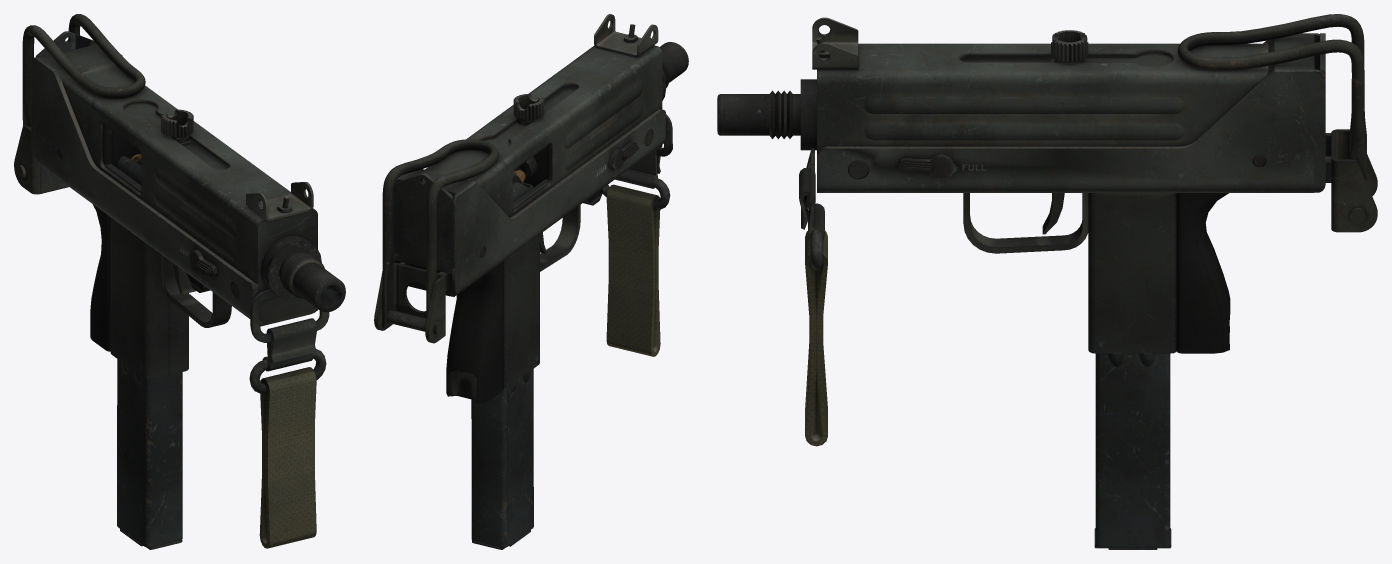
Rendered from mac10.glb.
3 views of the same model, side by side, from view 1: azimuth 30°, elevation 25°; view 2: azimuth 150°, elevation 25°; view 3: azimuth 270°, elevation 25° (orthographic). The views are drawn at different scales.
Visible parts, largest first — view 1: mac10; view 2: mac10; view 3: mac10.
Part boxes in pixels (x1,y1,x2,y2): mac10: (14,14,345,549); mac10: (374,14,688,549); mac10: (717,14,1377,549).
Size of the model in its own units: 2.23 by 10.97 by 12.83.
Materials: 1 (1 with a texture image).
